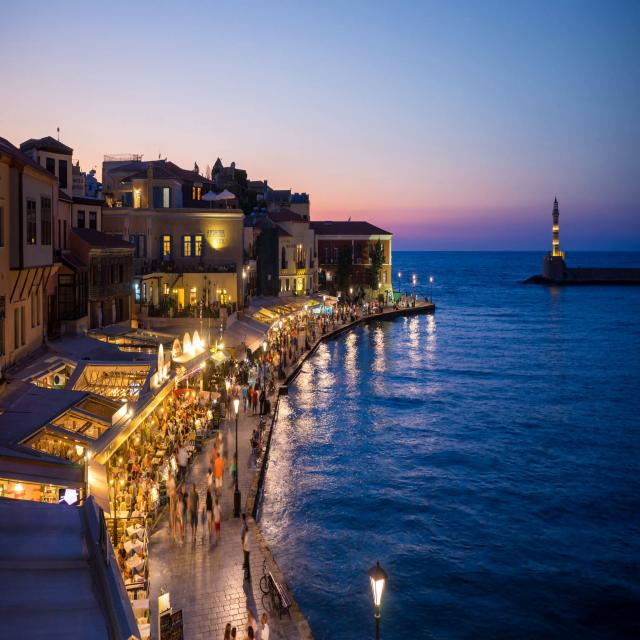body: (119, 376, 214, 521), (222, 574, 260, 640), (172, 544, 218, 583), (260, 346, 289, 380), (188, 481, 200, 541), (169, 486, 179, 542), (243, 524, 252, 585), (205, 489, 215, 543), (310, 310, 337, 330), (213, 451, 224, 498), (116, 548, 132, 579), (195, 298, 222, 316), (220, 428, 230, 472), (181, 484, 189, 538), (213, 498, 222, 545), (229, 452, 238, 499), (176, 493, 184, 544), (241, 512, 248, 570), (210, 441, 219, 483), (166, 471, 175, 508), (178, 493, 186, 528), (260, 612, 270, 640), (290, 324, 299, 355), (252, 429, 263, 452), (200, 507, 206, 544), (241, 382, 248, 412), (119, 541, 129, 561), (206, 467, 213, 495), (280, 327, 290, 346), (258, 386, 264, 416), (252, 387, 258, 416), (247, 384, 253, 412), (254, 378, 260, 404), (227, 388, 232, 417), (268, 332, 278, 346), (215, 432, 221, 455), (393, 296, 402, 310), (231, 392, 236, 416), (255, 426, 262, 443), (257, 363, 261, 390), (237, 363, 246, 375), (270, 376, 277, 391), (246, 382, 250, 408), (221, 383, 226, 403), (226, 362, 231, 382), (250, 384, 254, 405), (288, 346, 292, 366), (308, 325, 313, 339), (354, 310, 360, 320), (366, 302, 370, 316), (341, 313, 346, 324), (236, 381, 240, 394), (297, 319, 300, 336), (215, 381, 219, 393), (312, 329, 316, 341), (404, 300, 410, 308), (276, 340, 279, 355), (307, 318, 310, 333), (232, 373, 236, 384), (293, 320, 297, 331), (331, 319, 335, 330), (388, 293, 392, 304), (336, 312, 339, 326), (341, 310, 344, 324), (340, 306, 343, 320), (272, 373, 276, 383), (246, 362, 250, 372), (300, 345, 304, 355), (299, 319, 302, 332), (326, 316, 328, 333), (343, 305, 346, 316), (302, 314, 310, 318), (322, 322, 324, 336), (353, 303, 356, 312), (346, 308, 349, 317), (350, 306, 352, 319), (371, 302, 373, 315), (318, 316, 320, 328), (319, 318, 321, 330), (335, 308, 338, 316), (347, 304, 350, 312), (295, 316, 298, 324), (278, 335, 280, 346), (425, 295, 428, 302), (345, 314, 347, 324), (421, 292, 423, 302), (404, 291, 406, 300), (410, 292, 412, 301), (402, 300, 404, 307), (338, 306, 340, 312), (350, 301, 352, 307), (234, 372, 236, 377), (406, 291, 407, 300), (416, 294, 417, 303), (302, 319, 304, 323), (346, 303, 348, 307), (393, 288, 395, 292), (356, 302, 358, 305), (394, 296, 395, 302), (405, 290, 406, 294)
